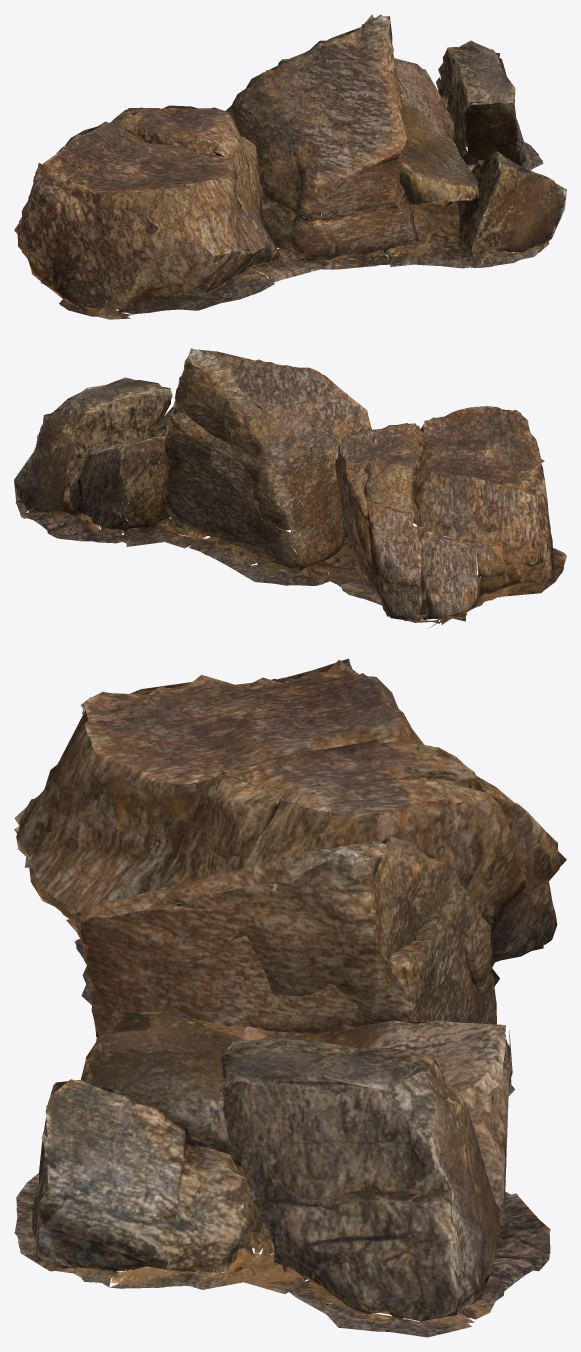
Rendered from desert-rock.glb.
3 views of the same model, one above another, from view 1: azimuth 30°, elevation 25°; view 2: azimuth 150°, elevation 25°; view 3: azimuth 270°, elevation 25° (orthographic). The views are drawn at different scales.
Parts seen in each view (by area): view 1: LOD0_0, LOD1_0; view 2: LOD0_0, LOD1_0; view 3: LOD0_0, LOD1_0.
Boxes of the visible parts, x1=… form: LOD0_0: x1=14, y1=16, x2=559, y2=319; LOD1_0: x1=16, y1=14, x2=566, y2=319; LOD0_0: x1=15, y1=348, x2=566, y2=623; LOD1_0: x1=14, y1=348, x2=564, y2=628; LOD0_0: x1=14, y1=661, x2=559, y2=1333; LOD1_0: x1=14, y1=658, x2=566, y2=1337.
Size of the model in its own units: 8.59 by 3.12 by 4.25.
1 material, 1 textured.
